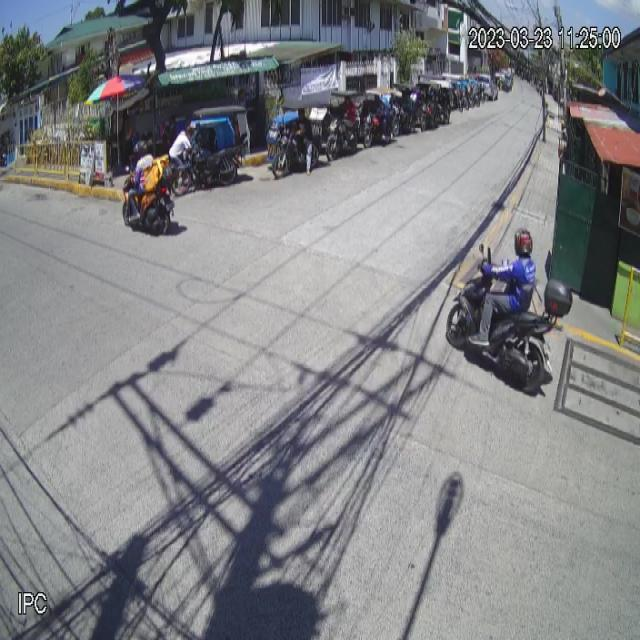Motorcycle: (446, 242, 574, 391), (122, 163, 176, 236)
